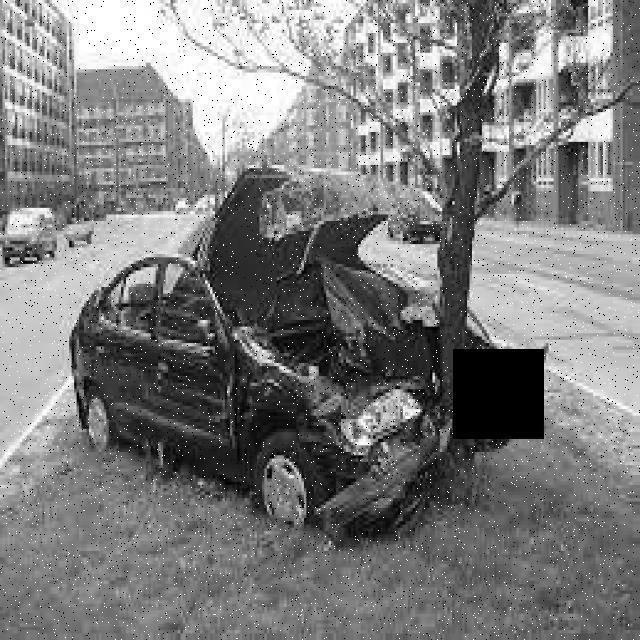accident: (64, 155, 551, 548)
vehicle: (5, 208, 59, 269), (388, 193, 443, 245)
